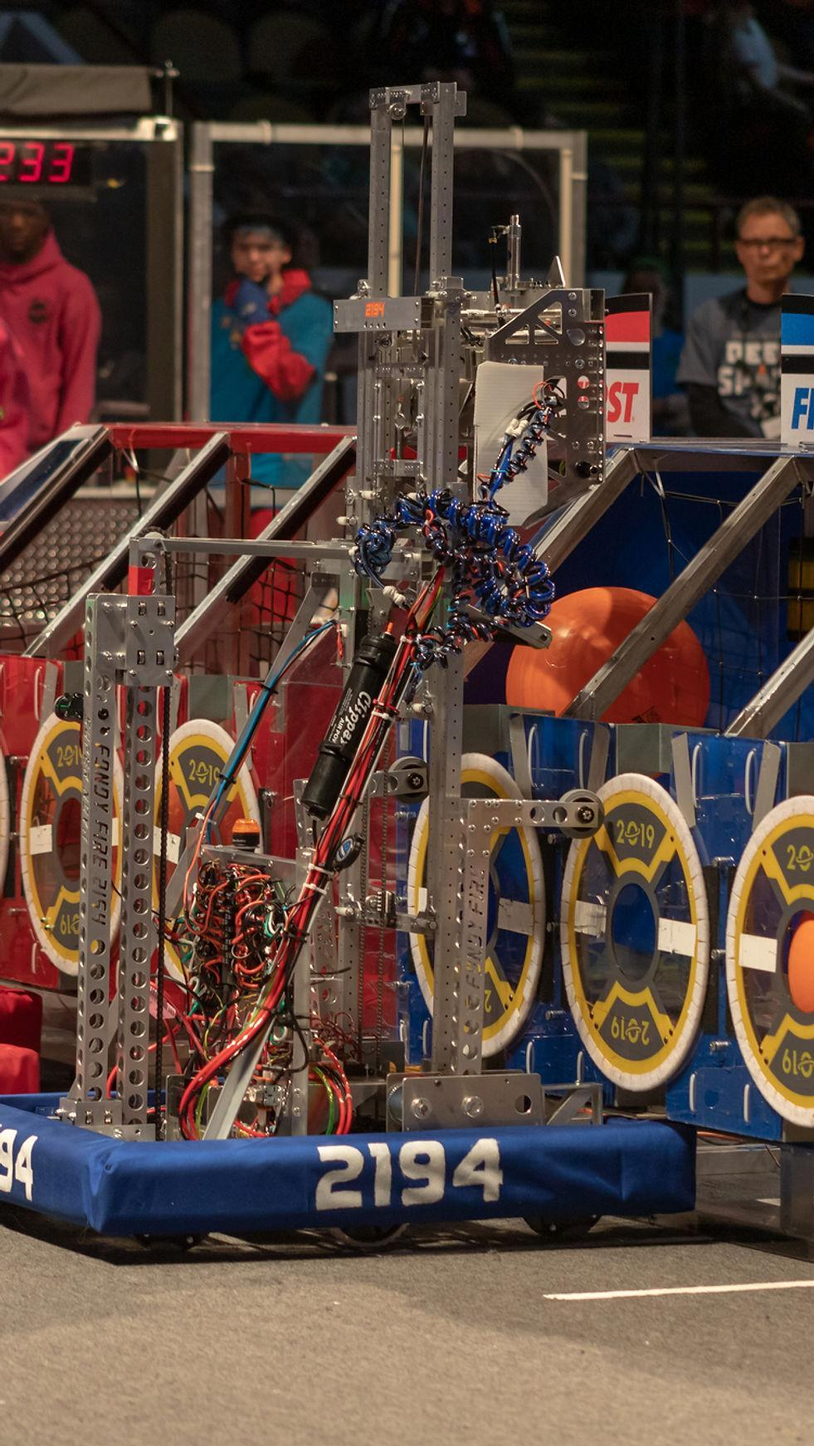robot: (0, 48, 712, 1270)
